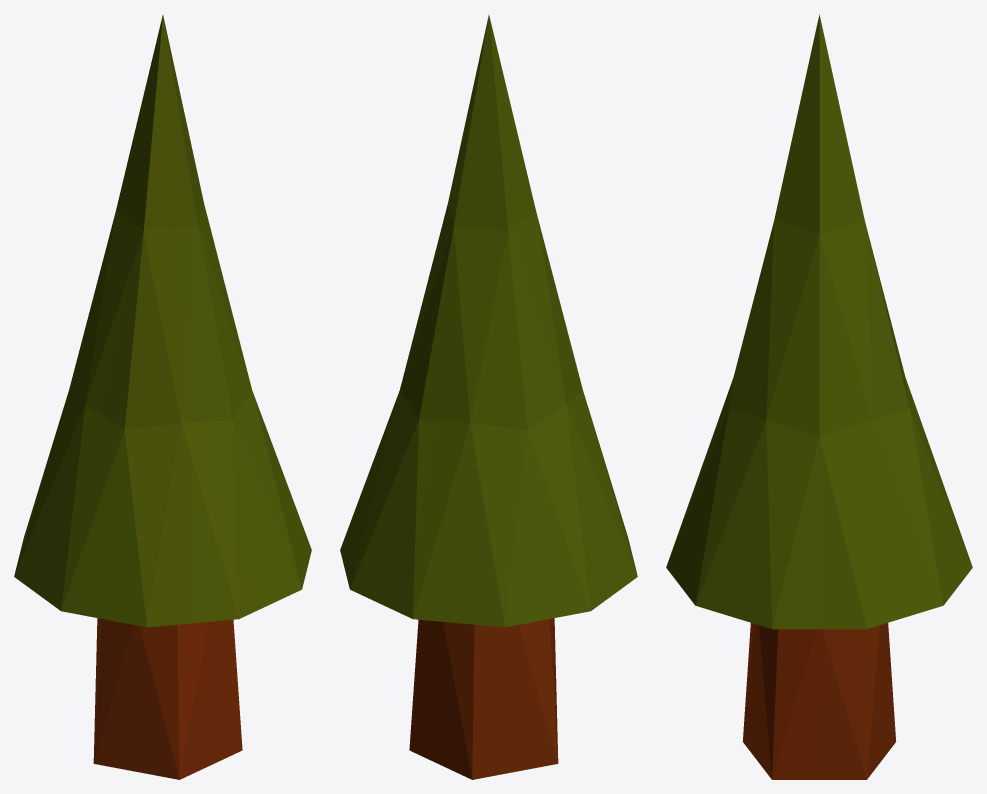
Rendered from boom spruice.fbx.
3 renders of one model, left to right at view 1: azimuth 30°, elevation 25°; view 2: azimuth 150°, elevation 25°; view 3: azimuth 270°, elevation 25°, orthographic.
Visible parts, largest first — view 1: Icosphere; view 2: Icosphere; view 3: Icosphere.
Boxes of the visible parts, x1,y1,x2,y2 form: Icosphere: (14,15,311,779); Icosphere: (340,15,637,779); Icosphere: (666,14,972,779).
Size of the model in its own units: 190 by 531 by 200.
1 material, 1 textured.
